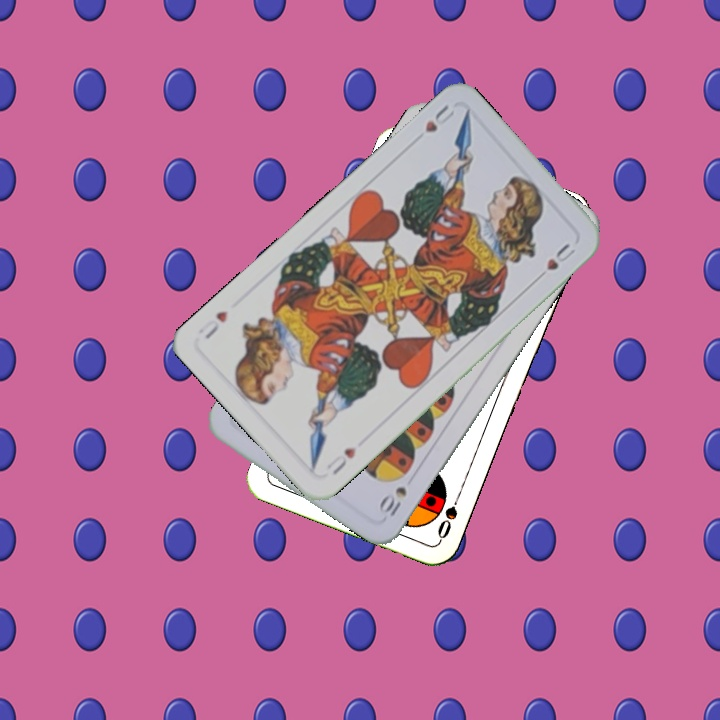HU: (322, 443, 359, 478), (421, 100, 458, 135)
S10: (377, 482, 410, 519)
SO: (433, 486, 465, 542)
